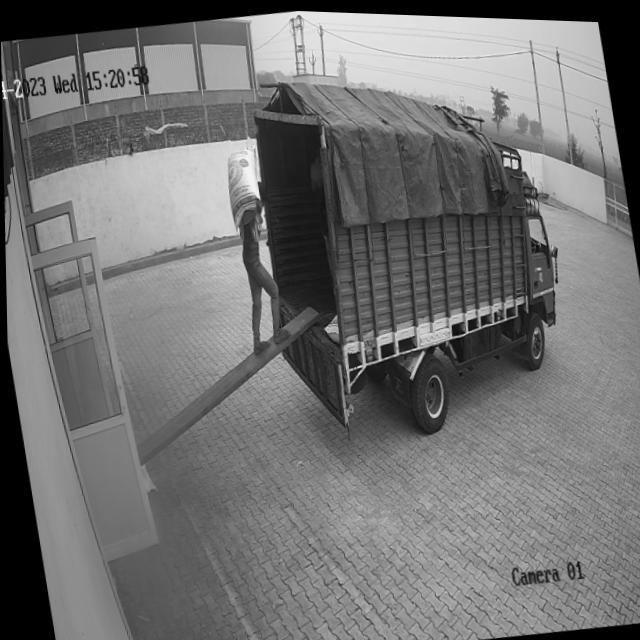sack: (220, 141, 267, 230)
